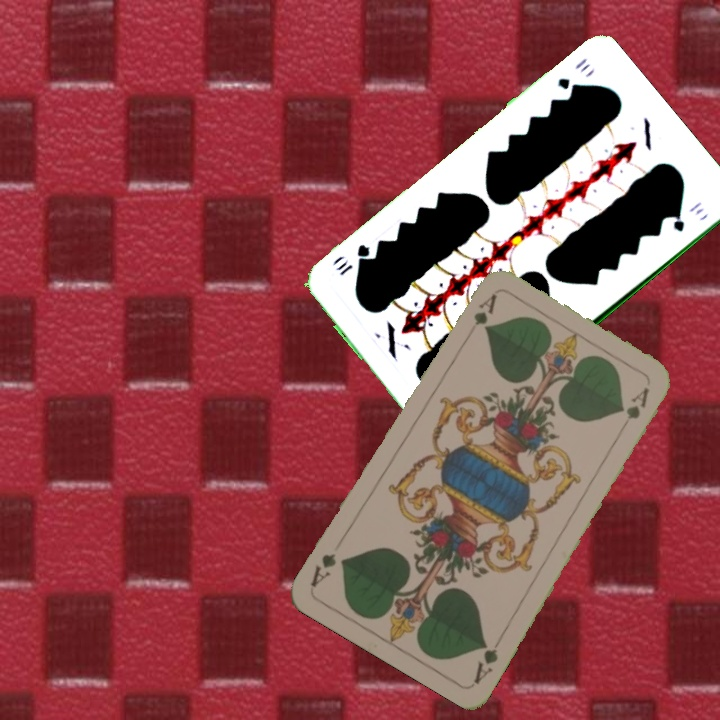G10: (553, 54, 592, 93)
GA: (470, 631, 506, 687), (469, 290, 500, 328)
